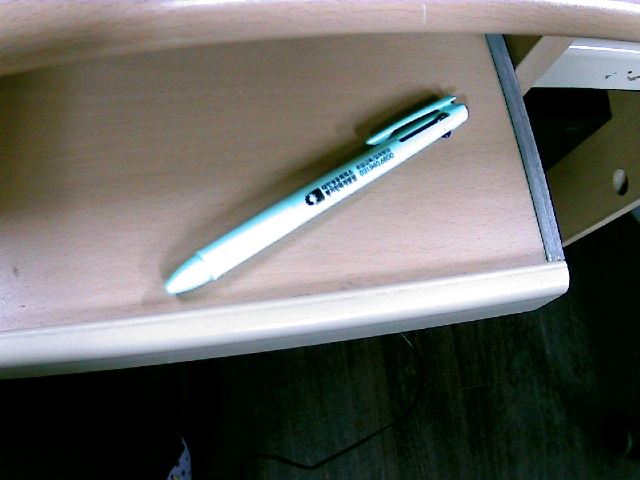pen: (159, 61, 473, 311)
